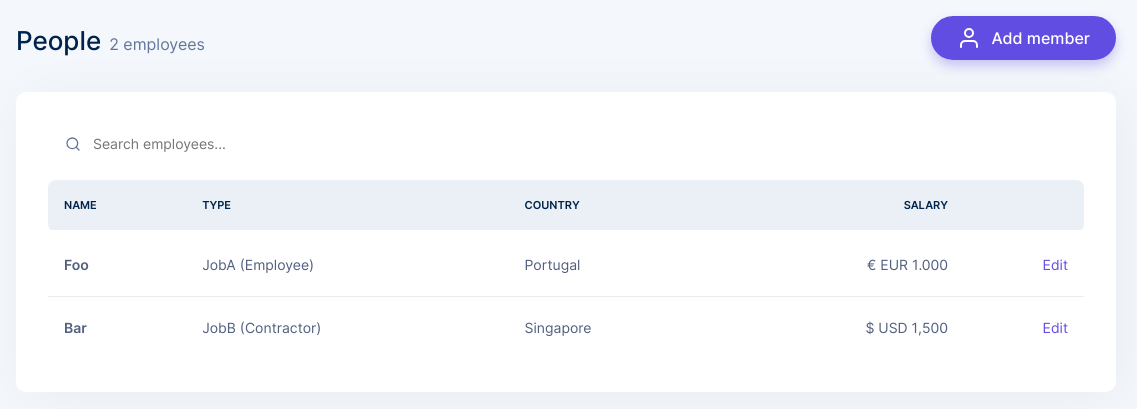
Test: People list page › search by incorrect substring shows empty result
Type "no_results" into the field with placeholder "Search employees...".
click(193, 144); type("no_results")  # box [93, 136, 293, 152]
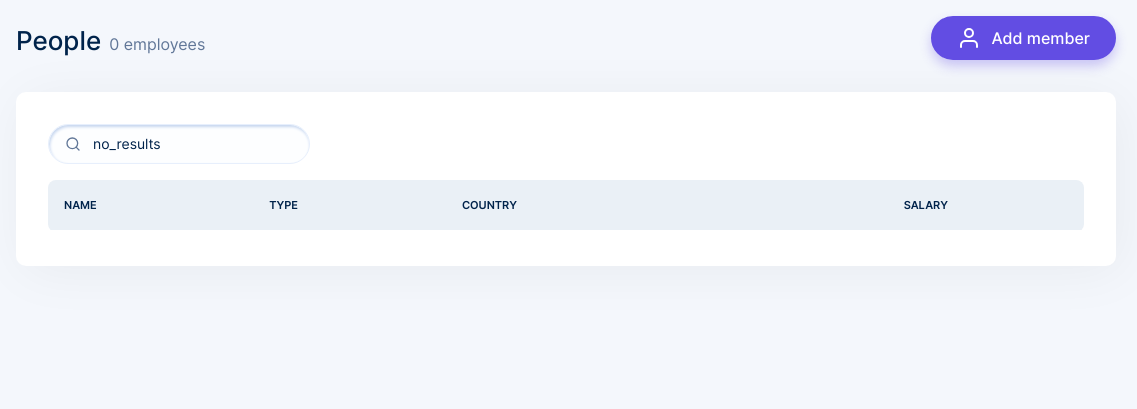
Check: the text "0 employees" is shown, box [109, 32, 205, 56]
